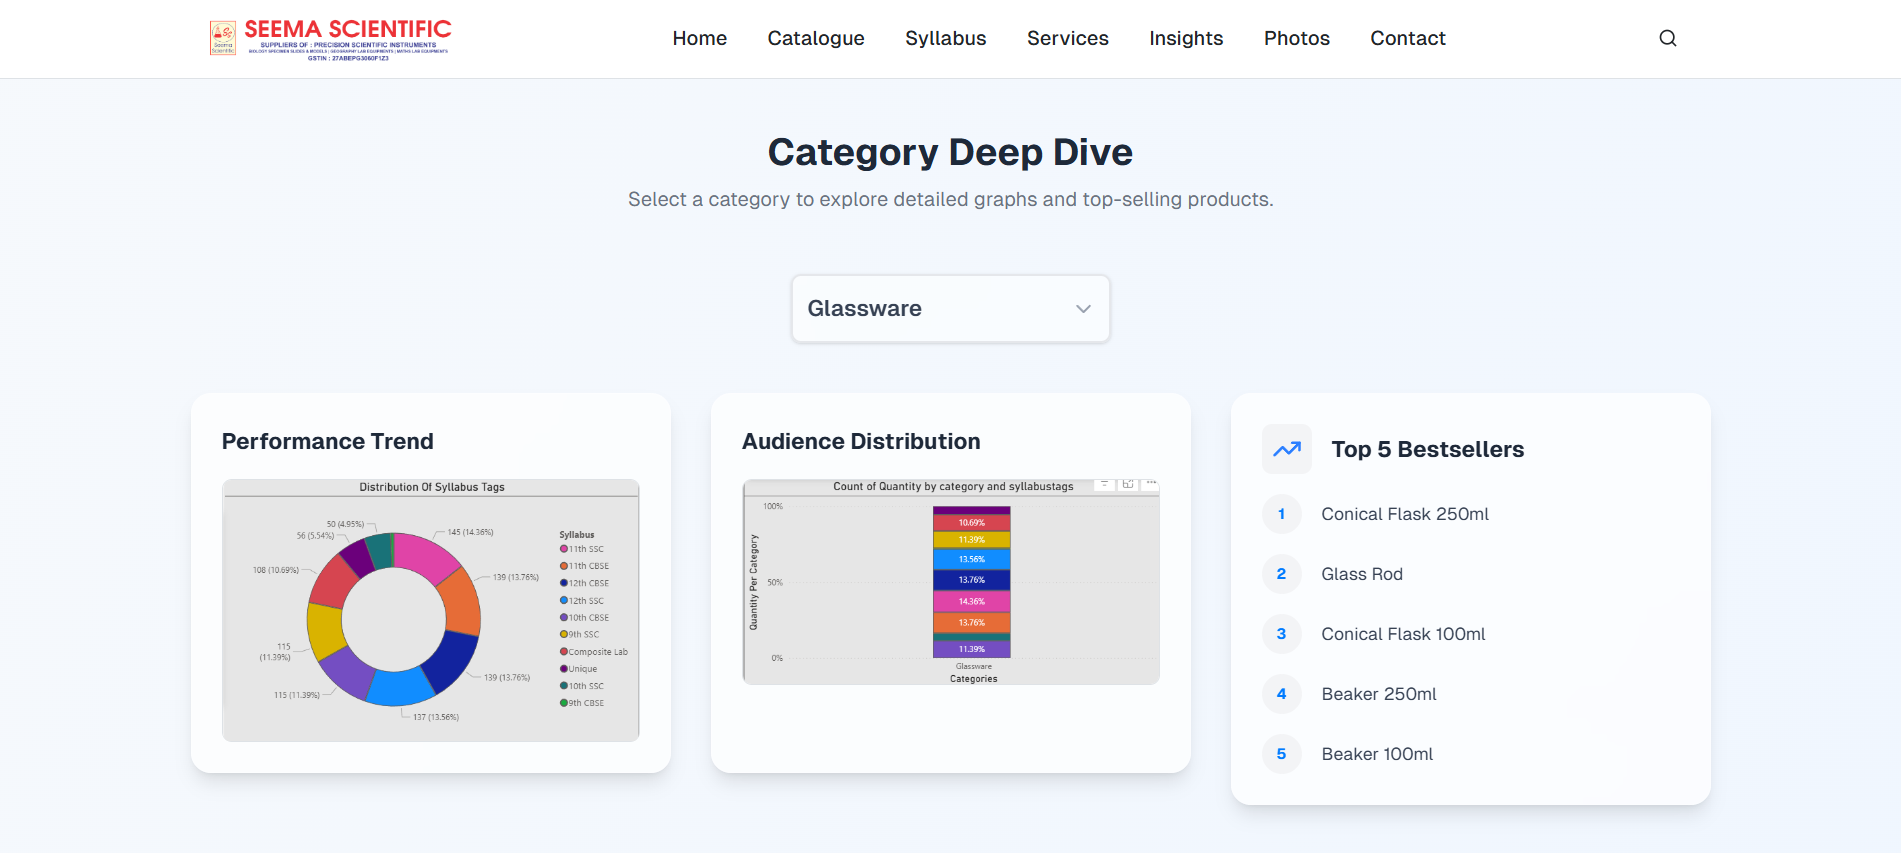

What the dashboard file says about the page in this screenshot:
{"tool":"powerbi","page":{"name":"Category Deep Dive","canvas":[1280,720],"ordinal":1},"visuals":[{"type":"slicer","fields":{"Values":["Sheet1.category"]},"box":[11.4,146.8,250.9,256.6],"z":0},{"type":"hundredPercentStackedColumnChart","fields":{"Category":["Sheet1.category"],"Y":["CountNonNull(Sheet1.Quantity)"],"Series":["Sheet1.syllabustags"]},"box":[11.4,414.8,1257.2,305],"z":1000},{"type":"donutChart","title":"Distribution Of Syllabus Tags","fields":{"Category":["Sheet1.syllabustags"],"Y":["CountNonNull(Sheet1.name)"],"Series":["Sheet1.category"]},"box":[682.8,14.3,585.8,389.1],"z":2000},{"type":"waterfallChart","fields":{"Y":["CountNonNull(Sheet1.Quantity)"],"Category":["Sheet1.name"]},"box":[280.8,14.3,390.6,389.1],"z":3000},{"type":"card","title":"Count Of Categories","fields":{"Values":["Count(Sheet1.category)"]},"box":[11.4,14.3,250.9,121.2],"z":4000}]}

Visuals, with their boxes on the page's 1280x720 design canvas (x1, y1, x2, y2). These are canvas units, not pixel positions in the 1901x853 screenshot, which may show the page scaled, cropped or inside an application window:
slicer - Sheet1.category: [11,147,262,403]
hundredPercentStackedColumnChart - Sheet1.category x CountNonNull(Sheet1.Quantity): [11,415,1269,720]
"Distribution Of Syllabus Tags" donutChart: [683,14,1269,403]
waterfallChart - CountNonNull(Sheet1.Quantity) x Sheet1.name: [281,14,671,403]
"Count Of Categories" card: [11,14,262,136]
